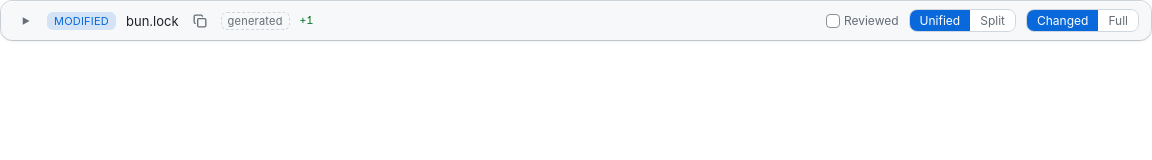
Test: a generated file starts collapsed and is labelled
The width and height of the screenshot is (1152, 160).
Expected: the text "generated" is shown, top-left (221, 12), bottom-right (290, 30)
Expected: the text "dep" is not shown
Click the button titled "Expand file" at [25, 20], box top-left (13, 14), bottom-right (37, 28)
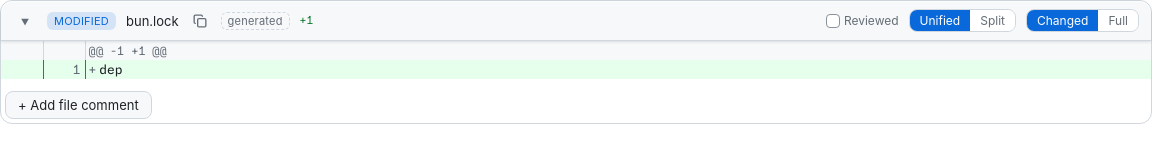
Now the text "dep" is shown, box top-left (99, 62), bottom-right (122, 77)
